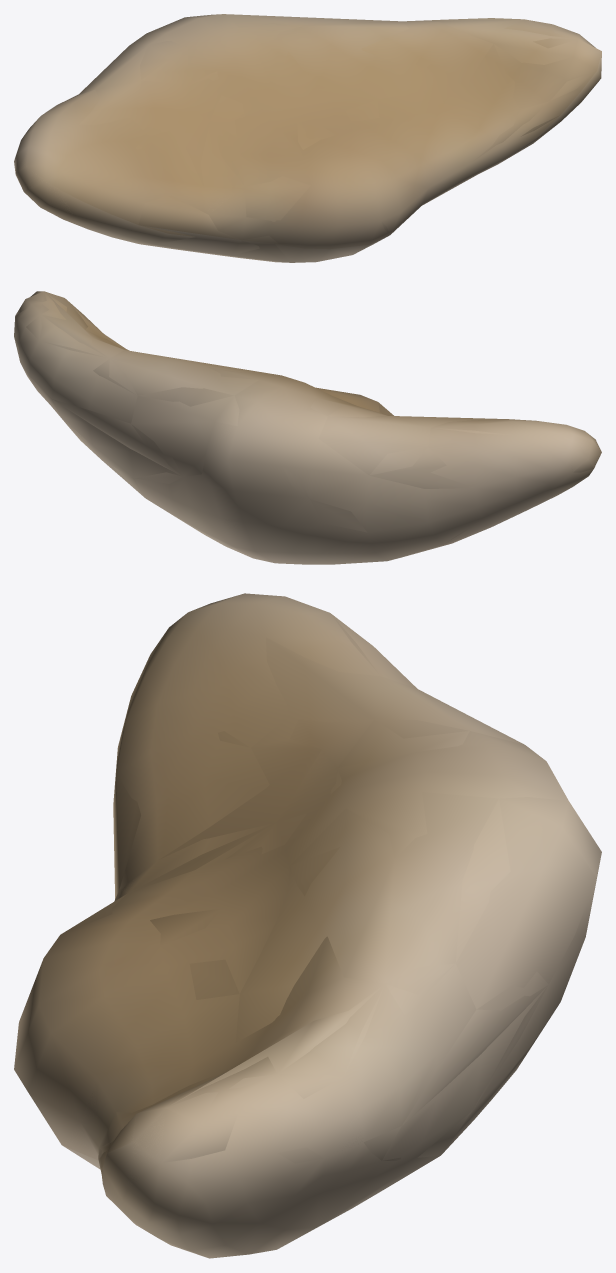
The model's file is BL sesamoidea distale.fbx.
3 renders of one model, top to bottom at view 1: azimuth 30°, elevation 25°; view 2: azimuth 150°, elevation 25°; view 3: azimuth 270°, elevation 25°, orthographic. The views are drawn at different scales.
Parts seen in each view (by area): view 1: BL sesamoidea distale, BL sesamoidea distale low; view 2: BL sesamoidea distale, BL sesamoidea distale low; view 3: BL sesamoidea distale, BL sesamoidea distale low.
Boxes of the visible parts, x1,y1,x2,y2 form: BL sesamoidea distale: (14,14,601,262); BL sesamoidea distale low: (14,14,600,262); BL sesamoidea distale: (14,291,601,564); BL sesamoidea distale low: (14,291,600,556); BL sesamoidea distale: (14,593,601,1258); BL sesamoidea distale low: (61,614,596,1258).
Bounding box in the file's own units: 4.2 × 1.36 × 1.95.
1 material, 1 textured.
